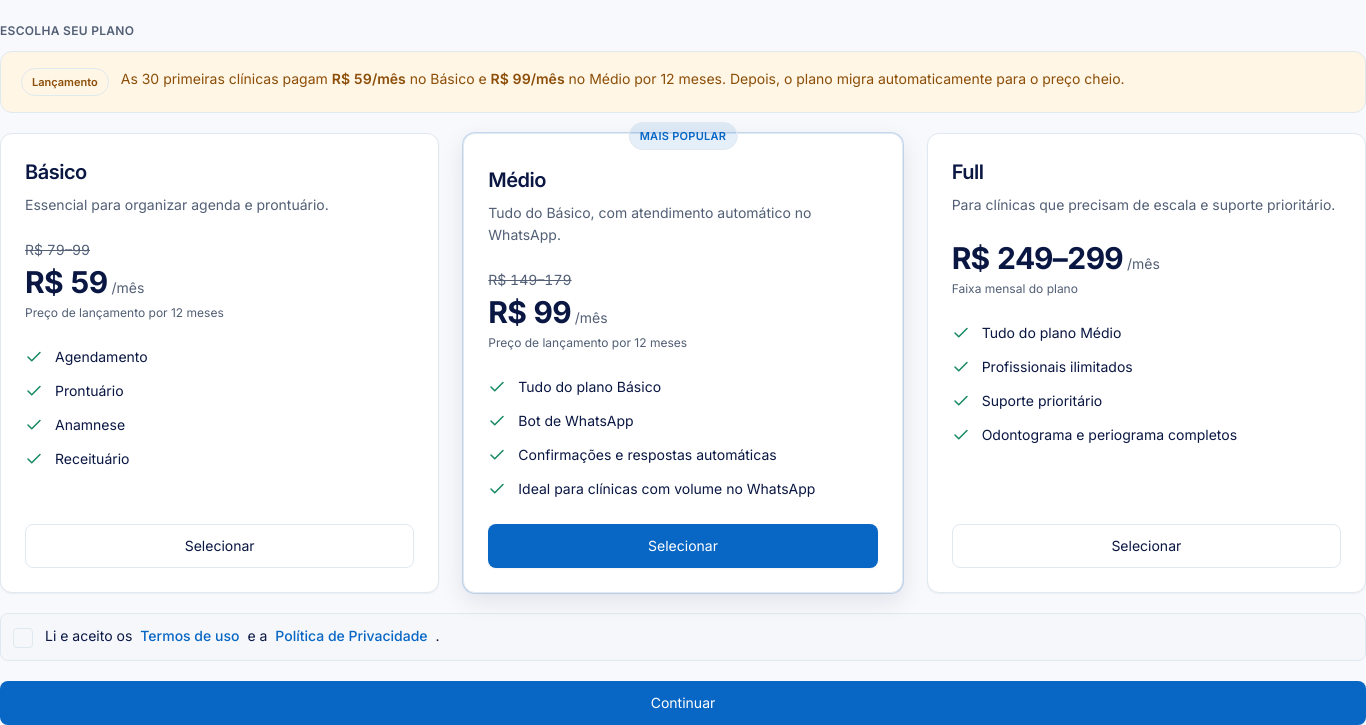
it: SignupForm (etapa 1) › mostra erros de validação ao submeter campos vazios
(page scrolled)
Click the button "Continuar". click: {"x": 683, "y": 703}
box: [0,681,1365,724]
(page scrolled)
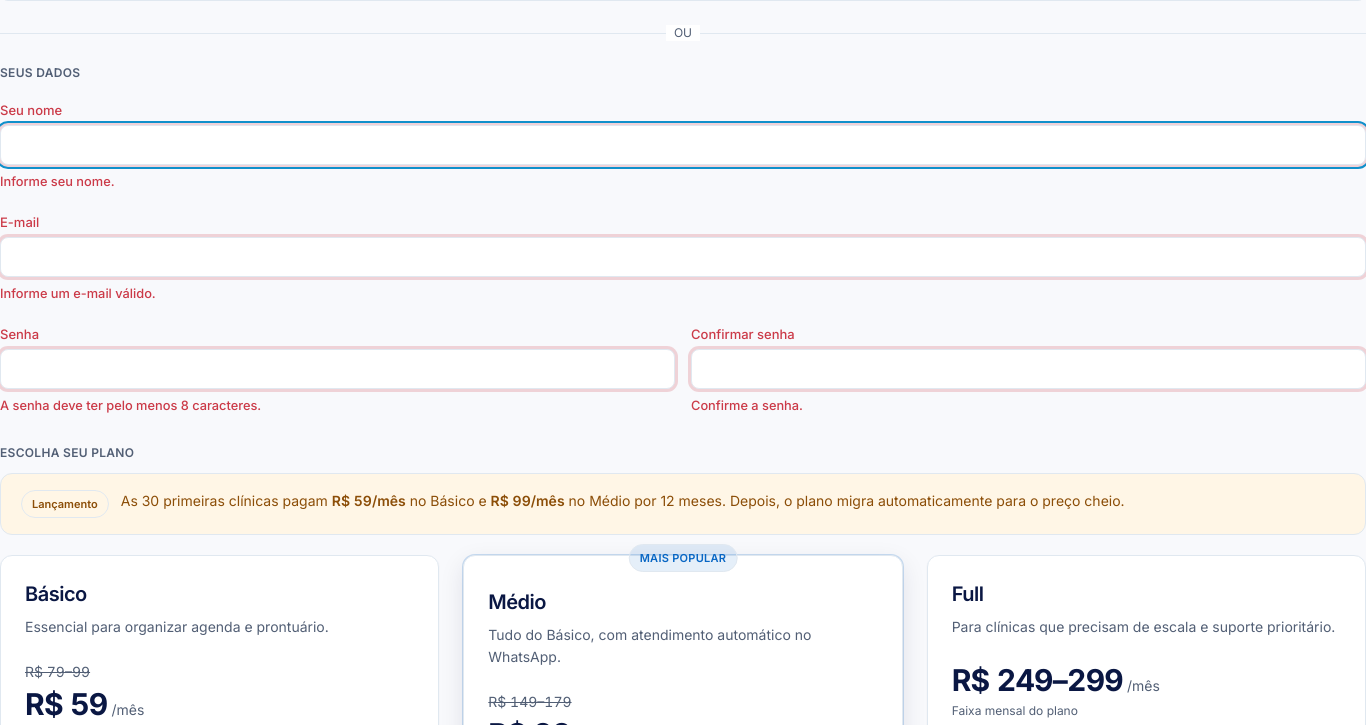
Expected: the text "Informe seu nome." is shown, [0,174,114,189]
Expected: the text "Informe um e-mail válido." is shown, [0,286,156,301]
